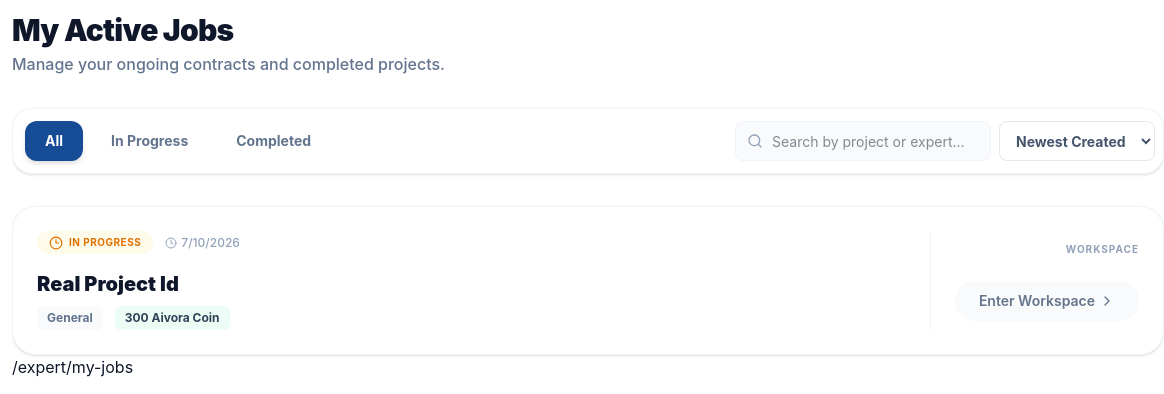
Scenario: ExpertMyJobsPage title navigation › uses the real project id in the title route
Click the link "Real Project Id": click(108, 284) [37,270,179,298]
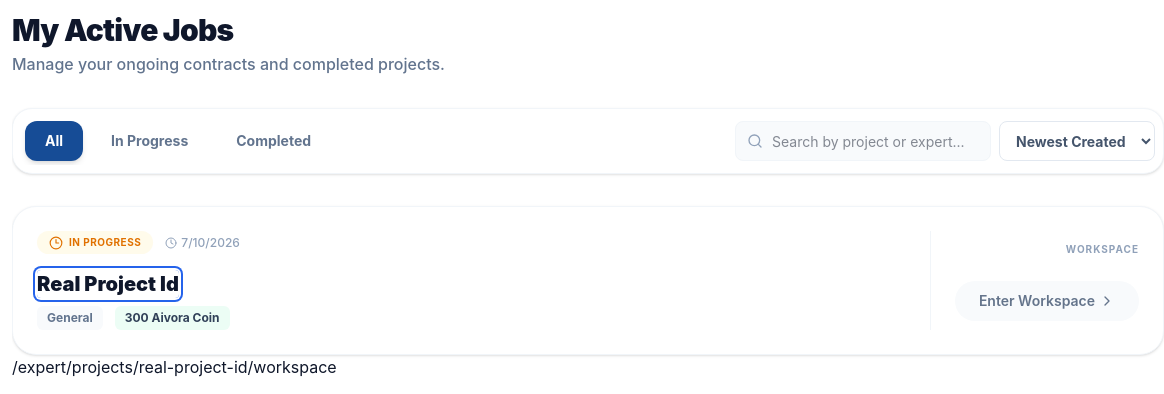
Now the text named "current path" reads "/expert/projects/real-project-id/workspace", box [12,357,337,377]
